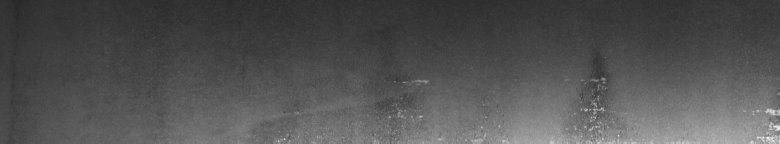hc: (566, 54, 615, 136)
